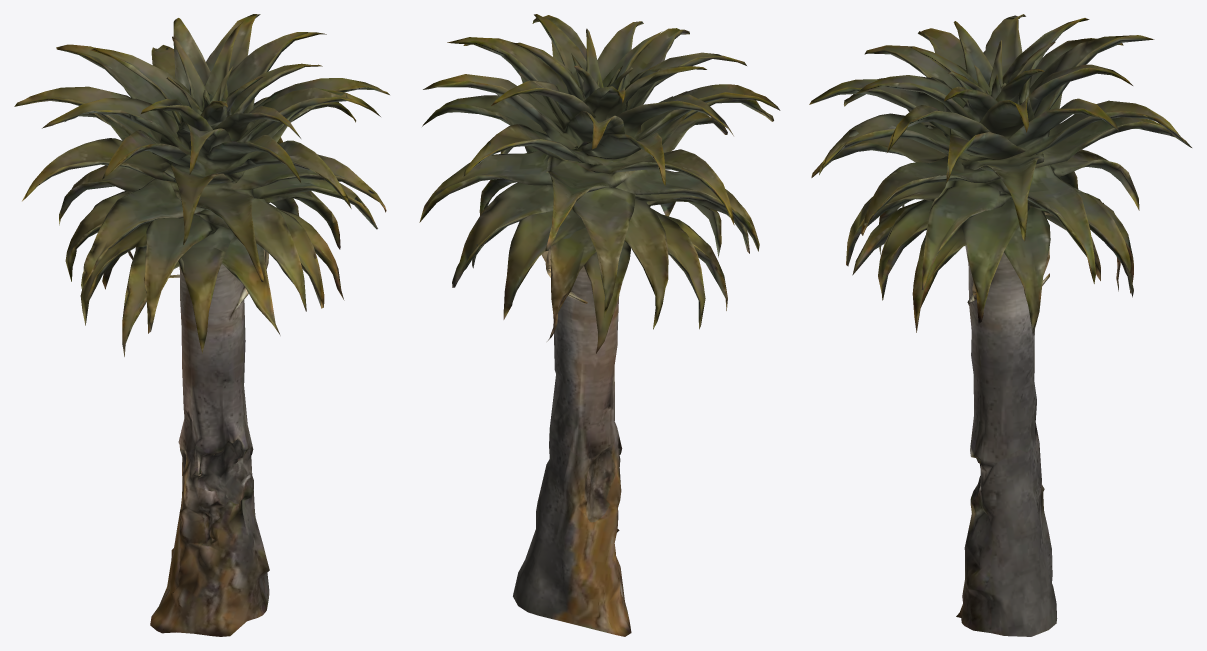
File: quiver_tree_02.glb
3 views of the same model, side by side, from view 1: azimuth 30°, elevation 25°; view 2: azimuth 150°, elevation 25°; view 3: azimuth 270°, elevation 25° (orthographic).
Visible parts, largest first — view 1: quiver_tree_02; view 2: quiver_tree_02; view 3: quiver_tree_02.
Part boxes in pixels (left/top/right/bottom): quiver_tree_02: left=14, top=14, right=389, bottom=636; quiver_tree_02: left=419, top=14, right=780, bottom=636; quiver_tree_02: left=809, top=14, right=1191, bottom=636.
Bounding box in the file's own units: 0.8646 × 1.47 × 0.8806.
Materials: 1 (1 with a texture image).
